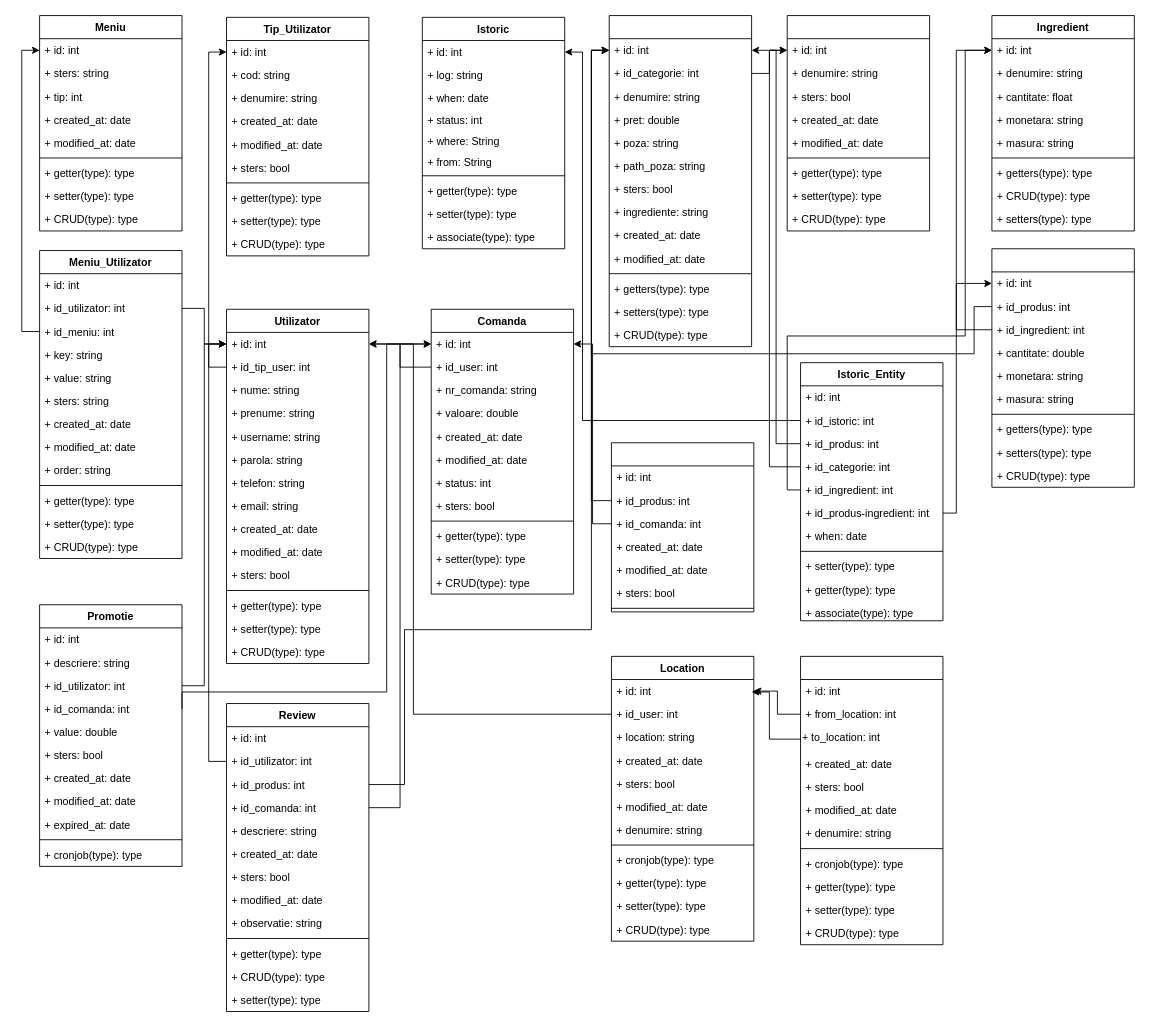
Some shapes in this 1150 by 1030 pixel diagram are drawn without their labels. The box of each missing label's shape, as (x1, y1, x2, y2) in pixels:
Categorie_Produs: (786, 15, 930, 231)
Comanda_produs: (611, 442, 754, 612)
Produs: (608, 15, 752, 347)
Produs_Ingredient: (991, 248, 1134, 487)
Ruta: (800, 655, 943, 945)
